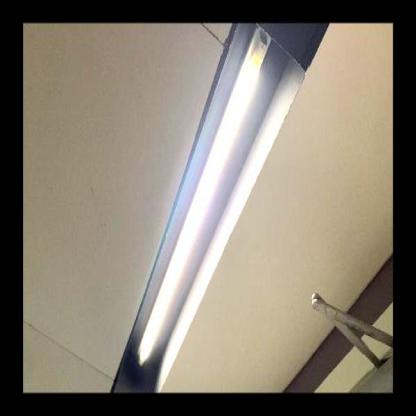light_on: (132, 25, 280, 373)
